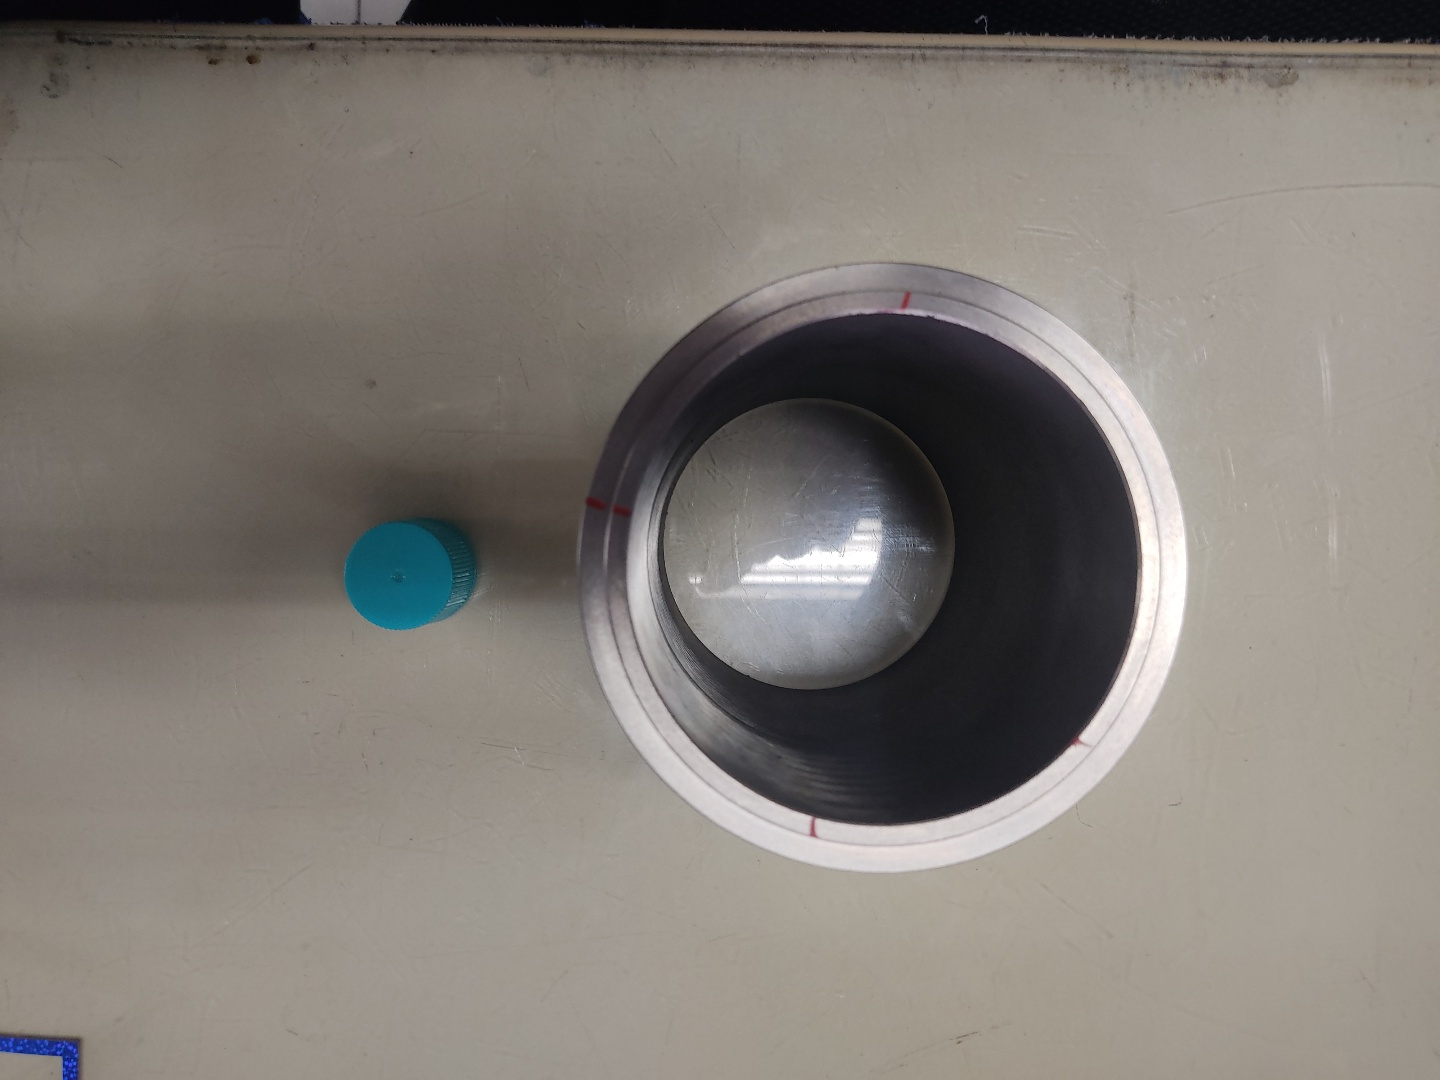cylinder: (570, 260, 1197, 880)
